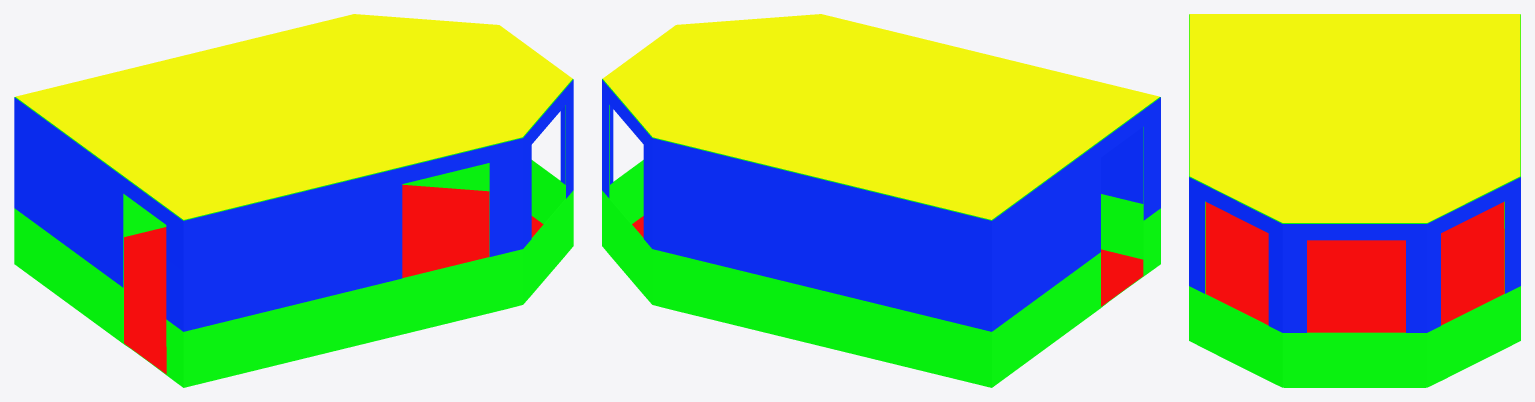
The model's file is Raum_3D.fbx.
3 views of the same model, side by side, from view 1: azimuth 30°, elevation 25°; view 2: azimuth 150°, elevation 25°; view 3: azimuth 270°, elevation 25° (orthographic).
Visible parts, largest first — view 1: Raum_Export; view 2: Raum_Export; view 3: Raum_Export.
Boxes of the visible parts, bbox=[...] form: Raum_Export: bbox=[14, 14, 573, 387]; Raum_Export: bbox=[602, 14, 1160, 387]; Raum_Export: bbox=[1189, 14, 1520, 387].
Bounding box in the file's own units: 825 × 302 × 552.
